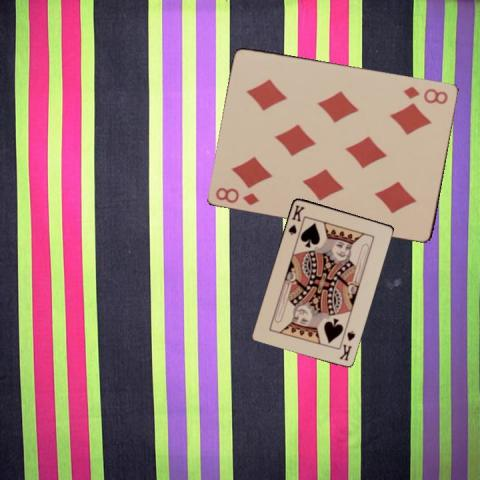8d: (213, 184, 260, 207), (400, 84, 449, 106)
Ks: (336, 327, 357, 362), (285, 202, 306, 236)
